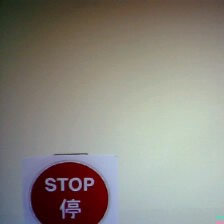stop: (21, 154, 117, 223)
